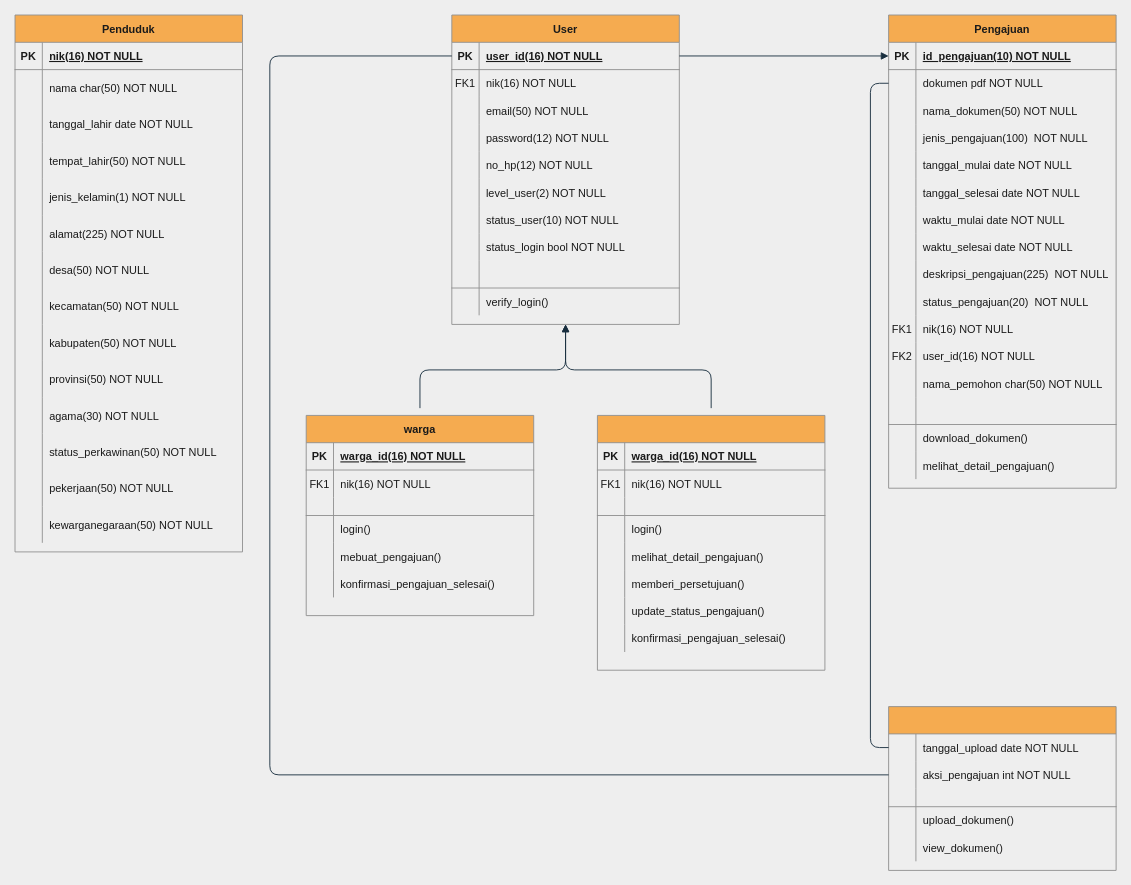
Image size: 1131x885. Some labels were removed from this diagram. Each missing label, with the box of its shape:
admin: (597, 415, 825, 670)
Daftar Pengajuan: (888, 706, 1116, 870)
